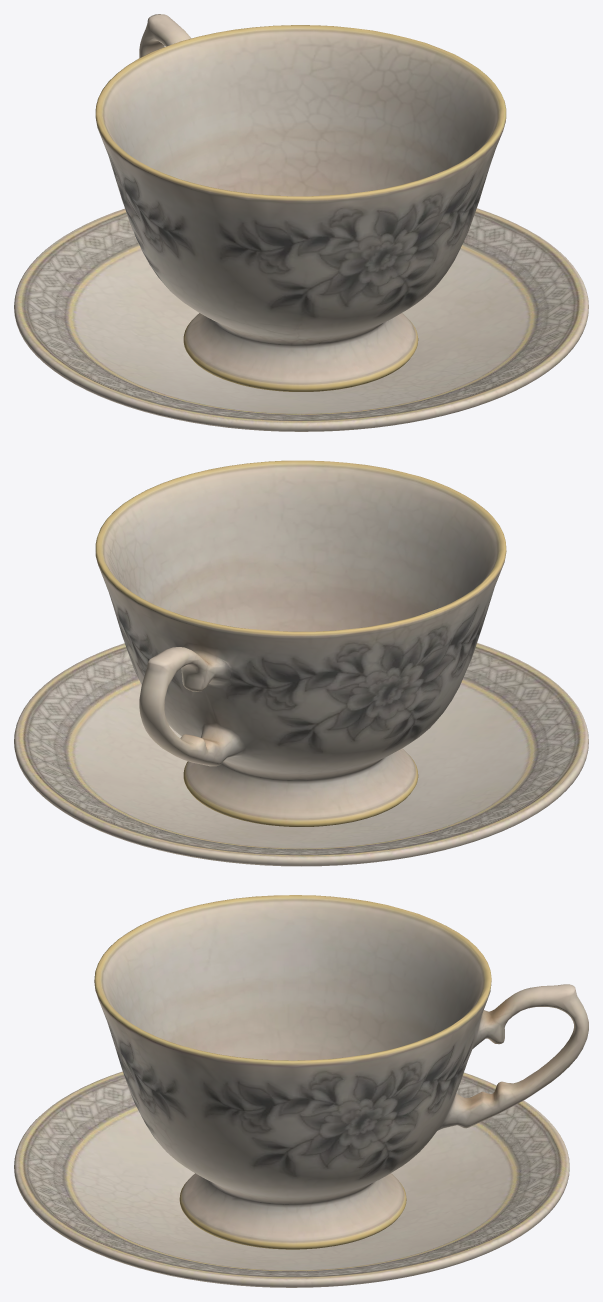
Rendered from teacup-001.glb.
3 views of the same model, one above another, from view 1: azimuth 30°, elevation 25°; view 2: azimuth 150°, elevation 25°; view 3: azimuth 270°, elevation 25° (orthographic). The views are drawn at different scales.
Parts seen in each view (by area): view 1: tea_cup, tea_saucer; view 2: tea_cup, tea_saucer; view 3: tea_cup, tea_saucer.
Boxes of the visible parts, left/top/right/bottom form: tea_cup: left=95, top=14, right=506, bottom=391; tea_saucer: left=14, top=208, right=588, bottom=431; tea_cup: left=95, top=460, right=506, bottom=826; tea_saucer: left=14, top=643, right=588, bottom=866; tea_cup: left=94, top=895, right=588, bottom=1249; tea_saucer: left=14, top=1071, right=569, bottom=1287.
Bounding box in the file's own units: 0.1486 × 0.0704 × 0.1537.
2 materials, 2 textured.
